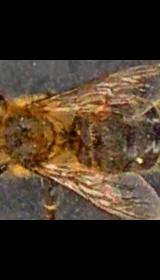varroa_mite: (91, 81, 110, 128)
